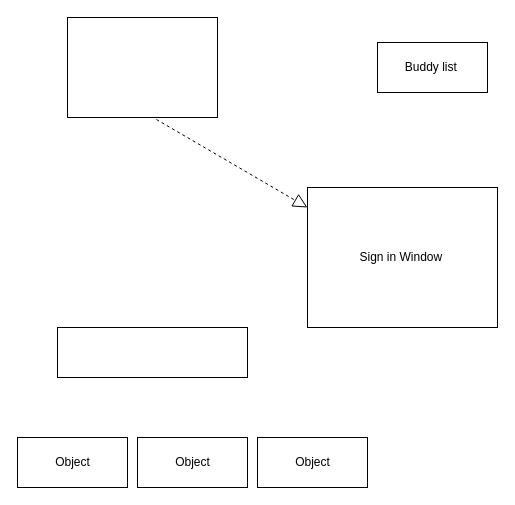
Image size: 515x505. Some labels were removed from this diagram. The shapes that lost their labels are listed below. From the top down, each one's centre as x and y in pixels, then its label:
At [142,67]: "MAIN".
At [152,352]: "Users".
